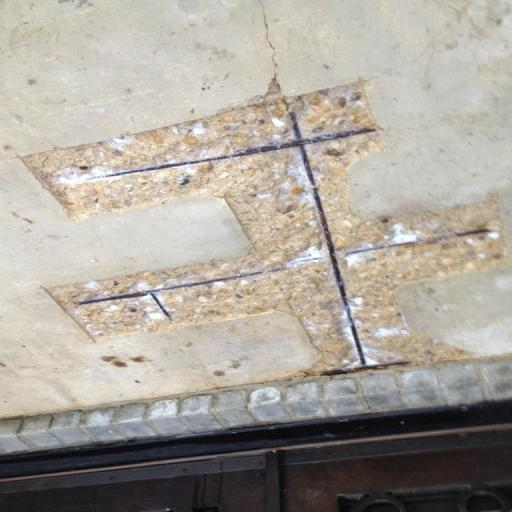spalling: (25, 84, 503, 380)
